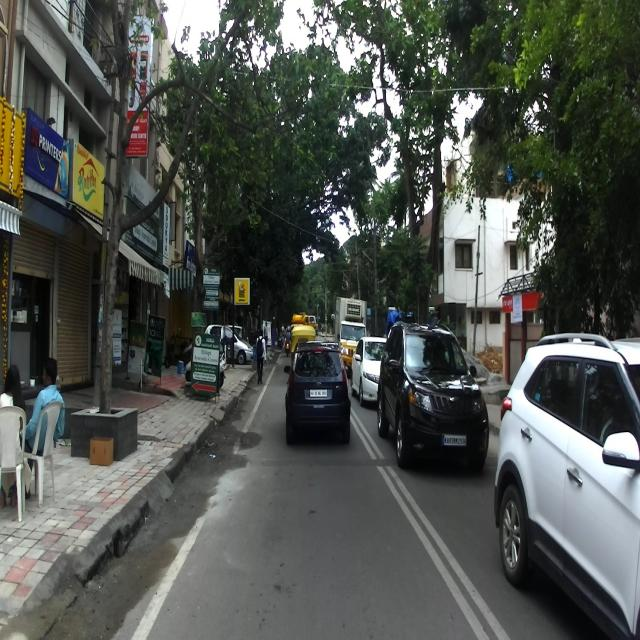Car_Ford: (283, 340, 351, 445)
Car_Hyundai: (492, 328, 640, 640)
Car_Mahindra: (377, 322, 489, 476)
